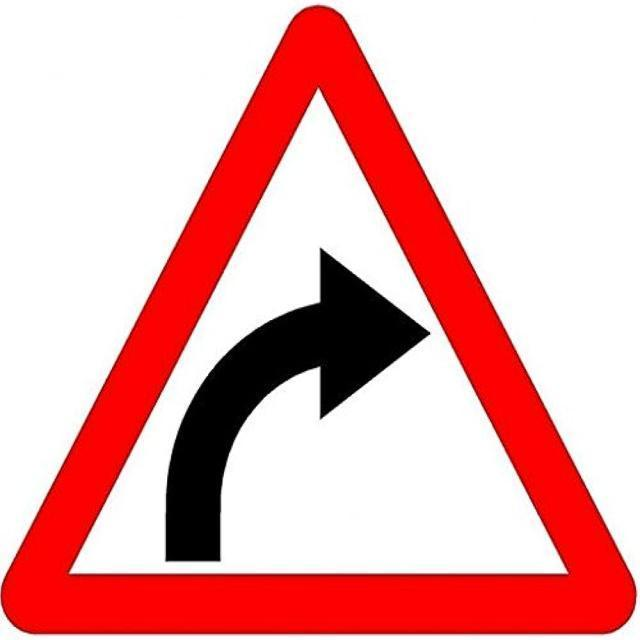right hand curve: (25, 18, 609, 624)
